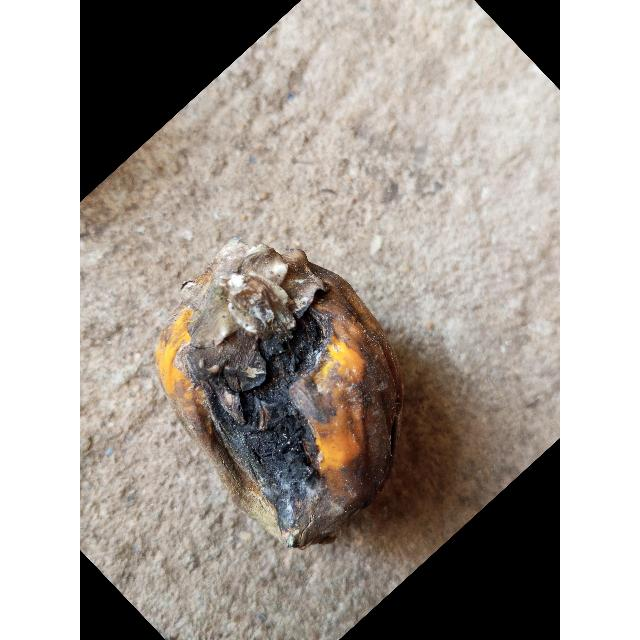damaged: (157, 237, 403, 548)
